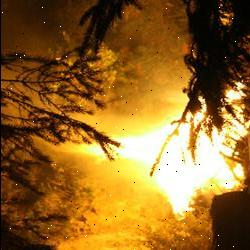fire: (48, 63, 248, 233)
